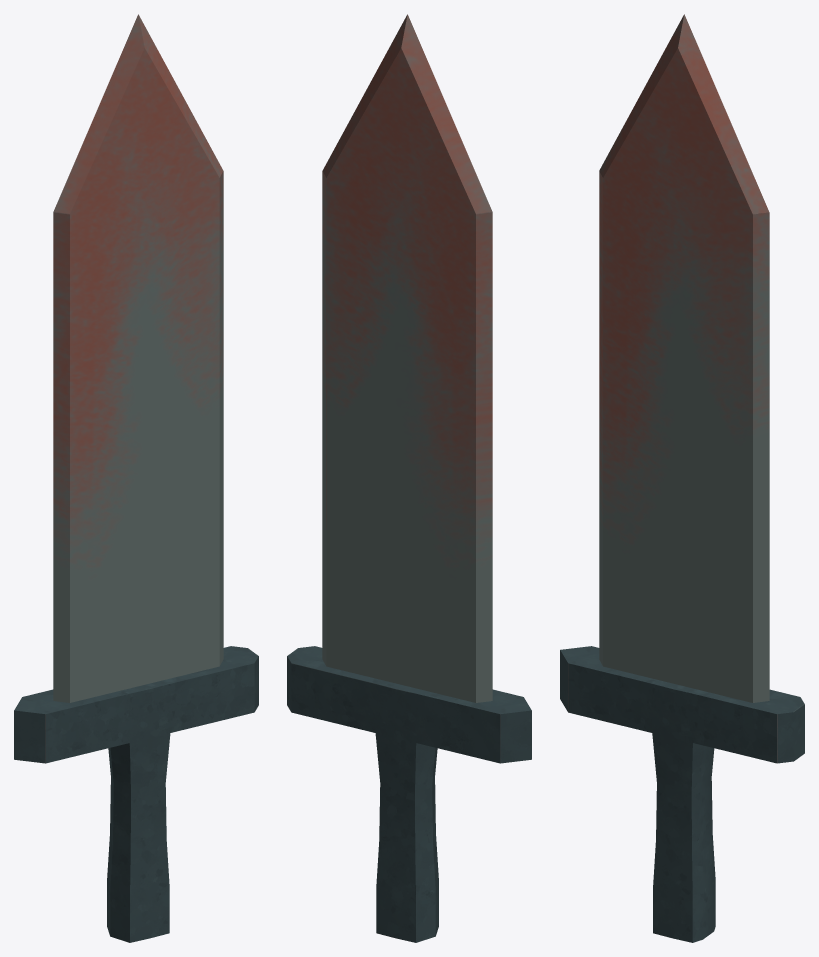
The model's file is Sword_Decor.fbx.
The picture shows the model from 3 angles, left to right: view 1: azimuth 30°, elevation 25°; view 2: azimuth 150°, elevation 25°; view 3: azimuth 330°, elevation 25°; orthographic projection.
Parts seen in each view (by area): view 1: Cylinder.014; view 2: Cylinder.014; view 3: Cylinder.014.
Boxes of the visible parts, left/top/right/bottom form: Cylinder.014: left=14, top=14, right=258, bottom=942; Cylinder.014: left=287, top=14, right=531, bottom=942; Cylinder.014: left=560, top=14, right=804, bottom=942.
Bounding box in the file's own units: 92.76 × 339 × 16.26.
Materials: 1 (1 with a texture image).
